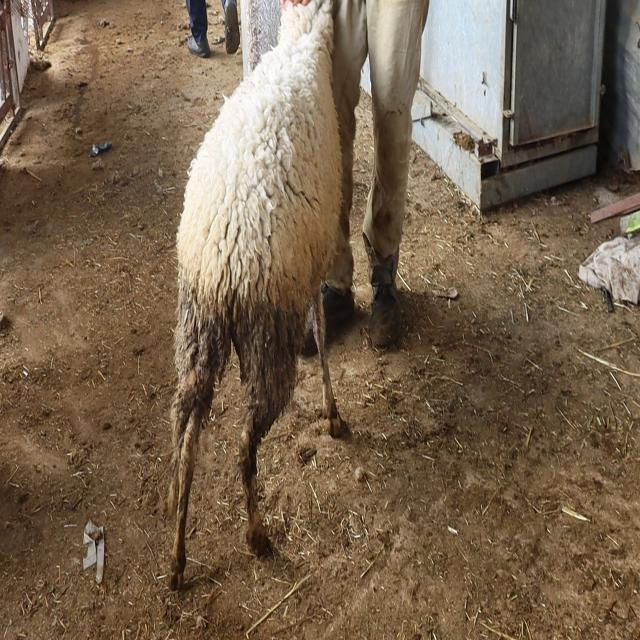Score_3: (167, 0, 341, 589)
